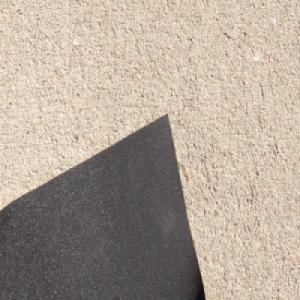PaintChip: (0, 104, 205, 300)
